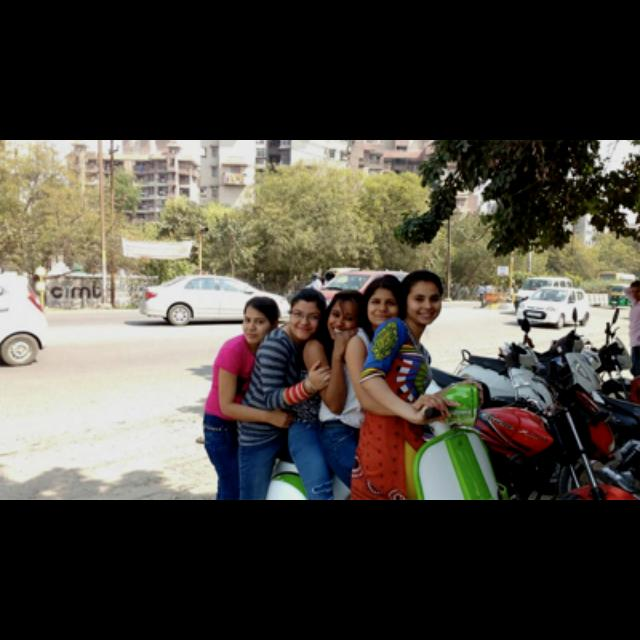Without Helmet: (398, 263, 446, 327)
